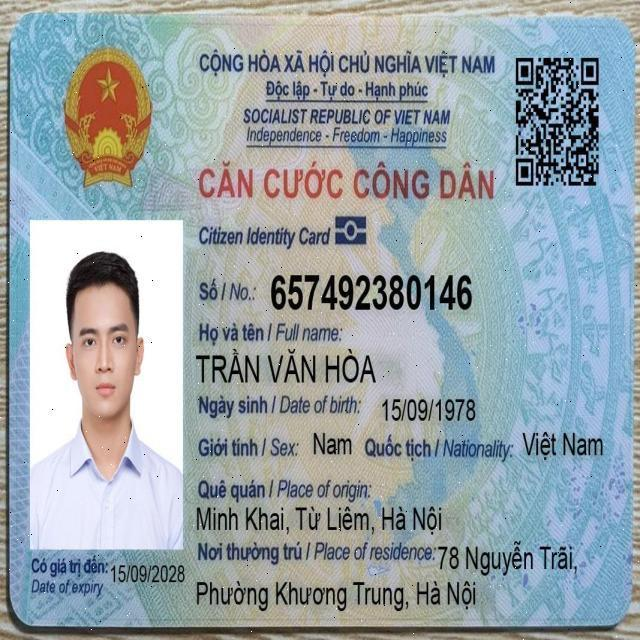current_place: (191, 575, 480, 615), (434, 539, 580, 579)
dob: (378, 391, 480, 427)
expire_date: (108, 559, 188, 588)
gender: (310, 428, 354, 459)
id: (267, 265, 478, 318)
name: (192, 344, 381, 390)
nationality: (517, 424, 606, 466)
origin_place: (193, 499, 446, 539)
